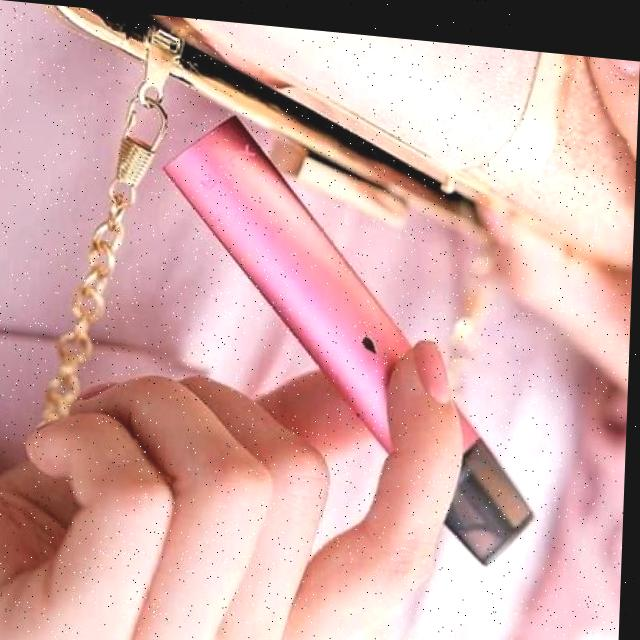vape: (149, 97, 548, 557)
